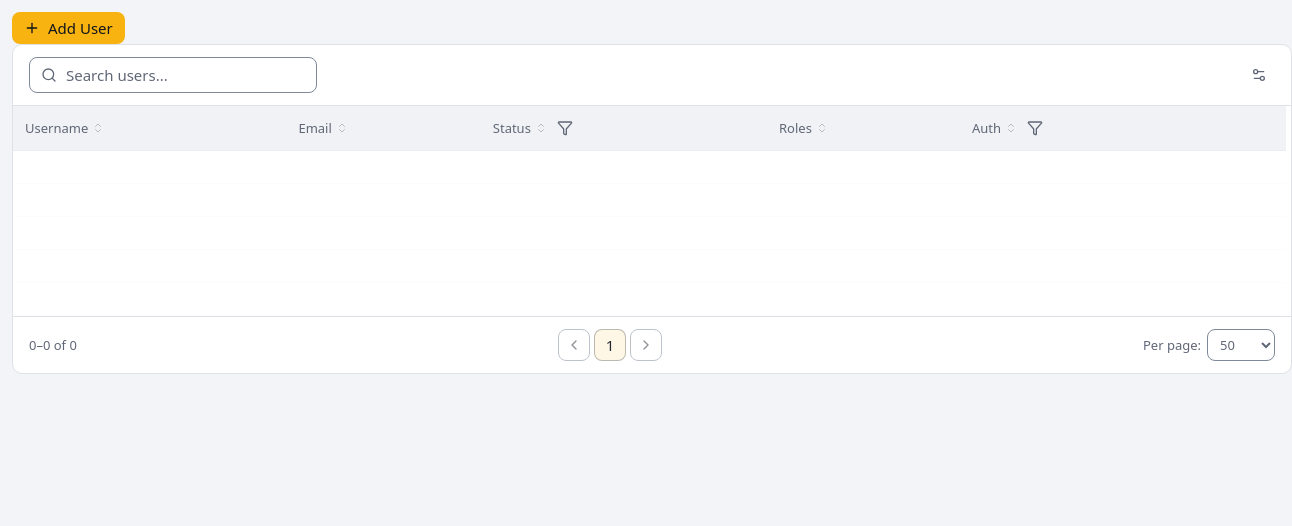
Test: AccessUsers password placeholder › names every create-user control through its visible label
The image size is (1292, 526).
Click the button "Add User" at (68,28), box [12,12,125,44]
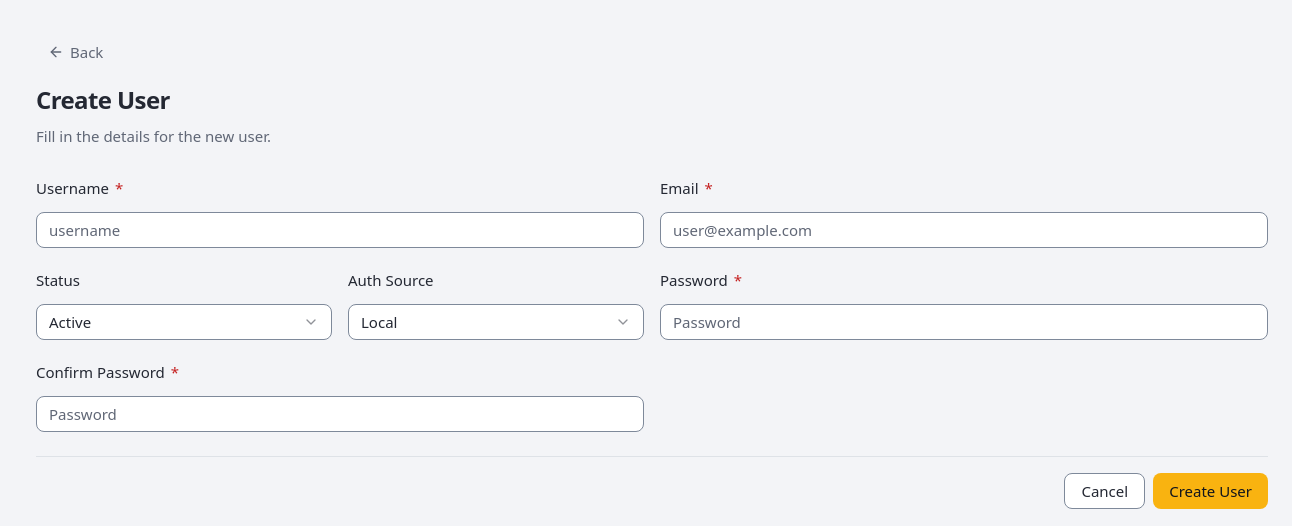
Result: the field labelled "Username *" is enabled at [36,212,644,248]
Result: the field labelled "Email *" is enabled at [660,212,1268,248]
Result: the password field labelled "Password *" is enabled at [660,304,1268,340]
